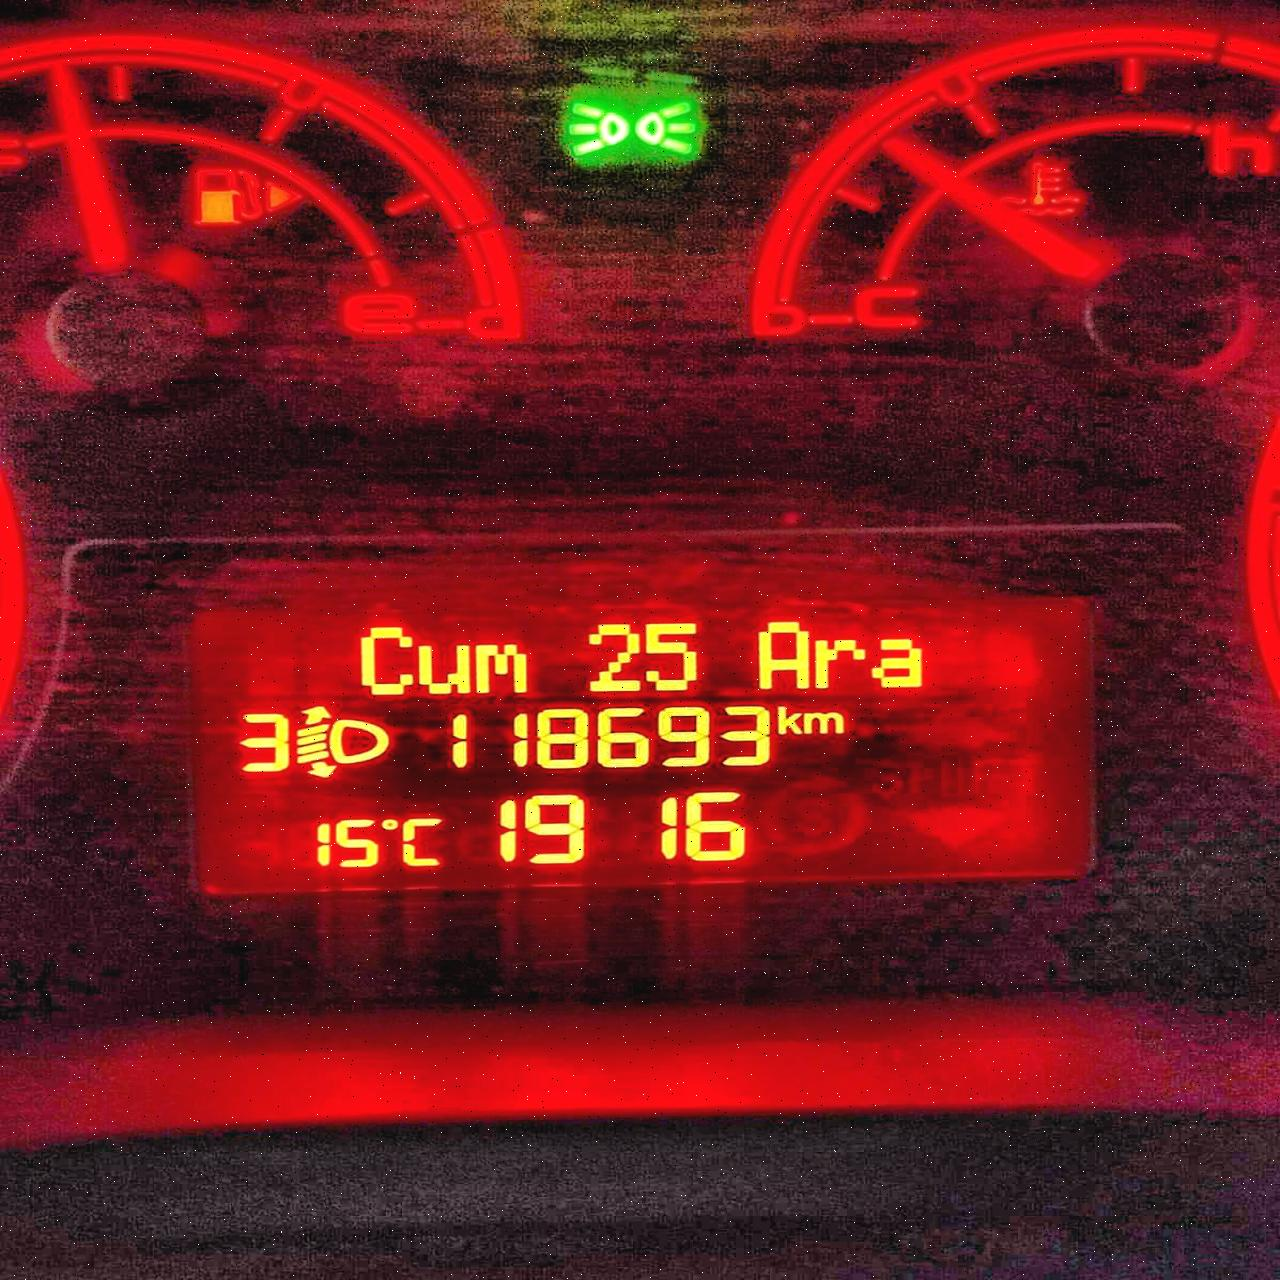1: (495, 795, 519, 866), (656, 791, 681, 860), (447, 709, 468, 772), (511, 710, 527, 768), (313, 818, 332, 867)
2: (590, 622, 641, 694)
3: (717, 701, 768, 770), (239, 710, 288, 772)
5: (644, 618, 702, 693), (332, 816, 379, 871)
6: (683, 790, 743, 865), (594, 706, 654, 771)
8: (535, 706, 591, 771)
9: (522, 790, 585, 865), (656, 707, 709, 768)
X: (756, 619, 811, 692), (359, 626, 415, 696), (413, 642, 471, 699), (475, 641, 527, 696), (812, 635, 864, 692), (401, 816, 445, 870), (876, 636, 919, 689), (803, 710, 846, 737), (777, 703, 805, 737)
odometer: (177, 595, 1101, 883)
